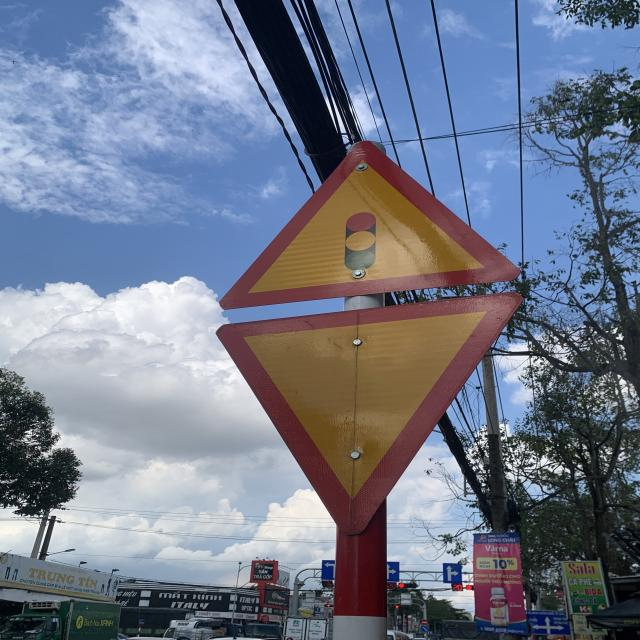Duong_Co_Go_Giam_Toc: (217, 139, 526, 308)
Gioi_Han_Toc_Do_25: (219, 295, 524, 533)
